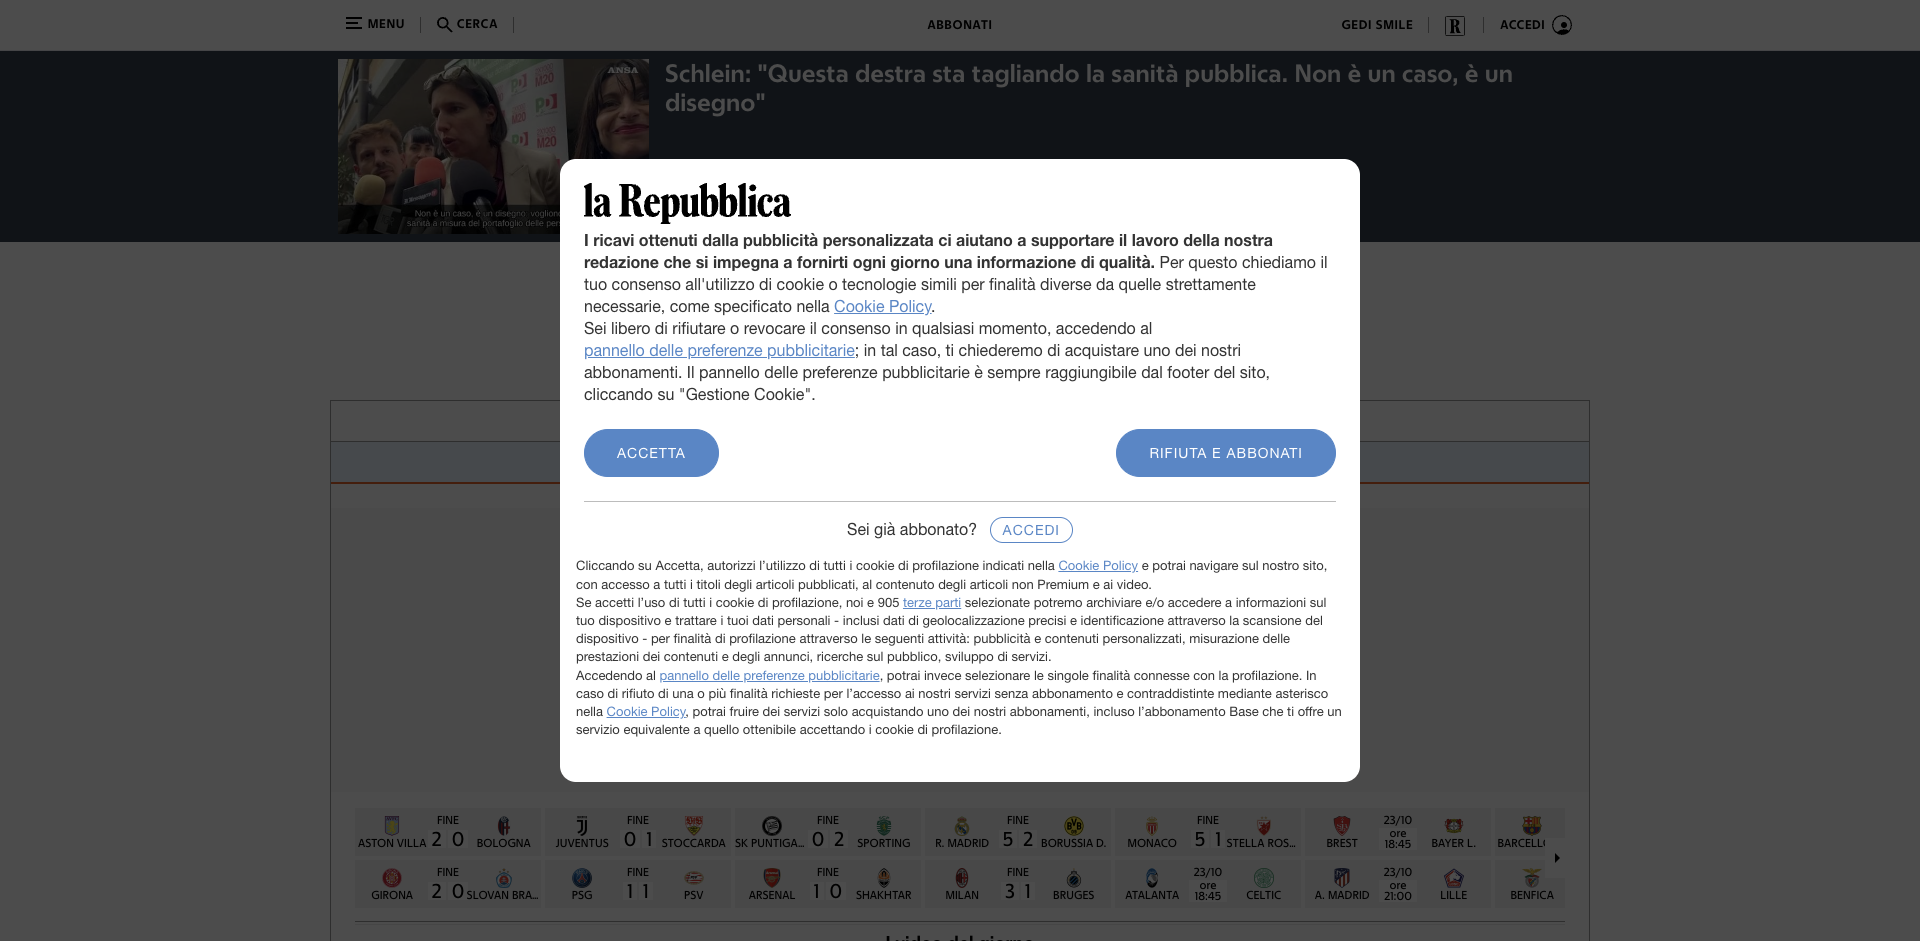button: (1117, 430, 1336, 478), (584, 430, 719, 478), (584, 339, 855, 361), (584, 342, 855, 359), (660, 667, 879, 685), (660, 668, 879, 682), (514, 15, 621, 36), (421, 17, 514, 33), (331, 17, 421, 33), (1554, 66, 1589, 102), (902, 594, 961, 613), (902, 594, 961, 610), (1521, 75, 1539, 93)
input: (340, 60, 1544, 108), (1075, 343, 1176, 376)
link: (665, 58, 1513, 116), (769, 262, 1151, 339), (924, 856, 1116, 908), (355, 856, 545, 908), (545, 856, 735, 908), (735, 856, 924, 908), (924, 807, 1116, 856), (355, 807, 545, 856), (545, 807, 735, 856), (735, 807, 924, 856), (1116, 807, 1305, 856), (989, 517, 1073, 544), (626, 453, 730, 470), (1085, 453, 1188, 470), (834, 298, 932, 315), (965, 453, 1062, 470), (1211, 453, 1292, 470), (1058, 559, 1138, 573), (606, 705, 686, 719), (1325, 20, 1429, 31), (1151, 343, 1183, 377), (752, 453, 806, 470), (829, 453, 877, 470), (927, 20, 993, 31), (900, 453, 942, 470), (1429, 20, 1484, 31)
